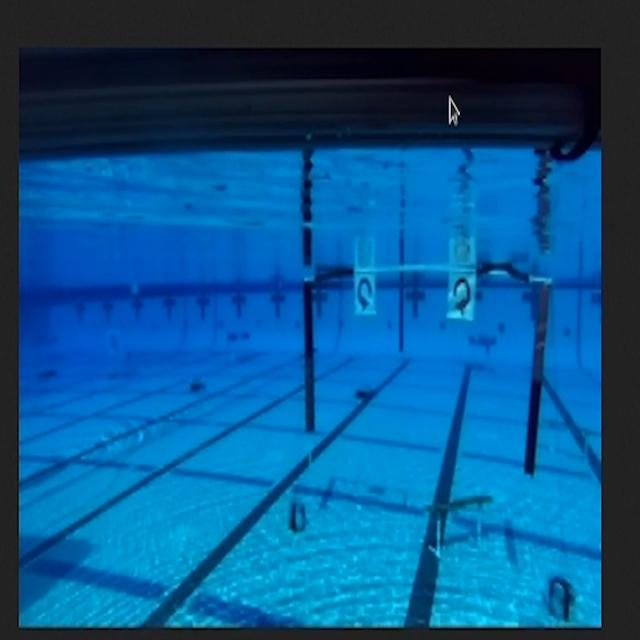Gate: (296, 258, 552, 476)
